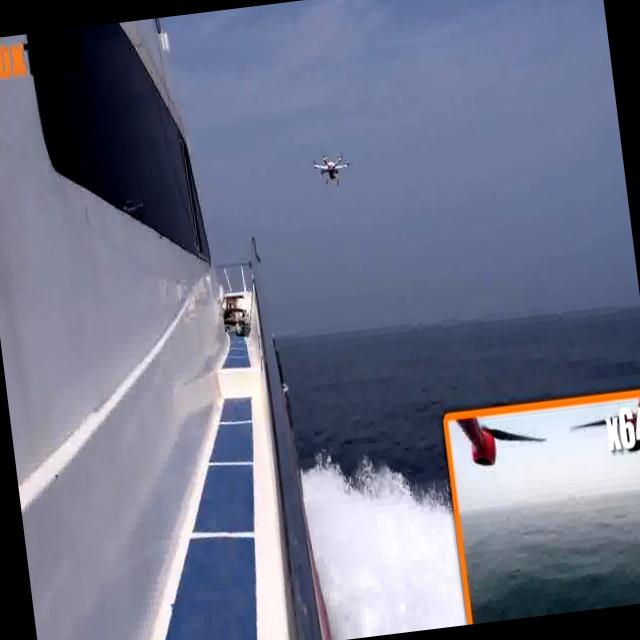drone: (306, 141, 360, 194)
